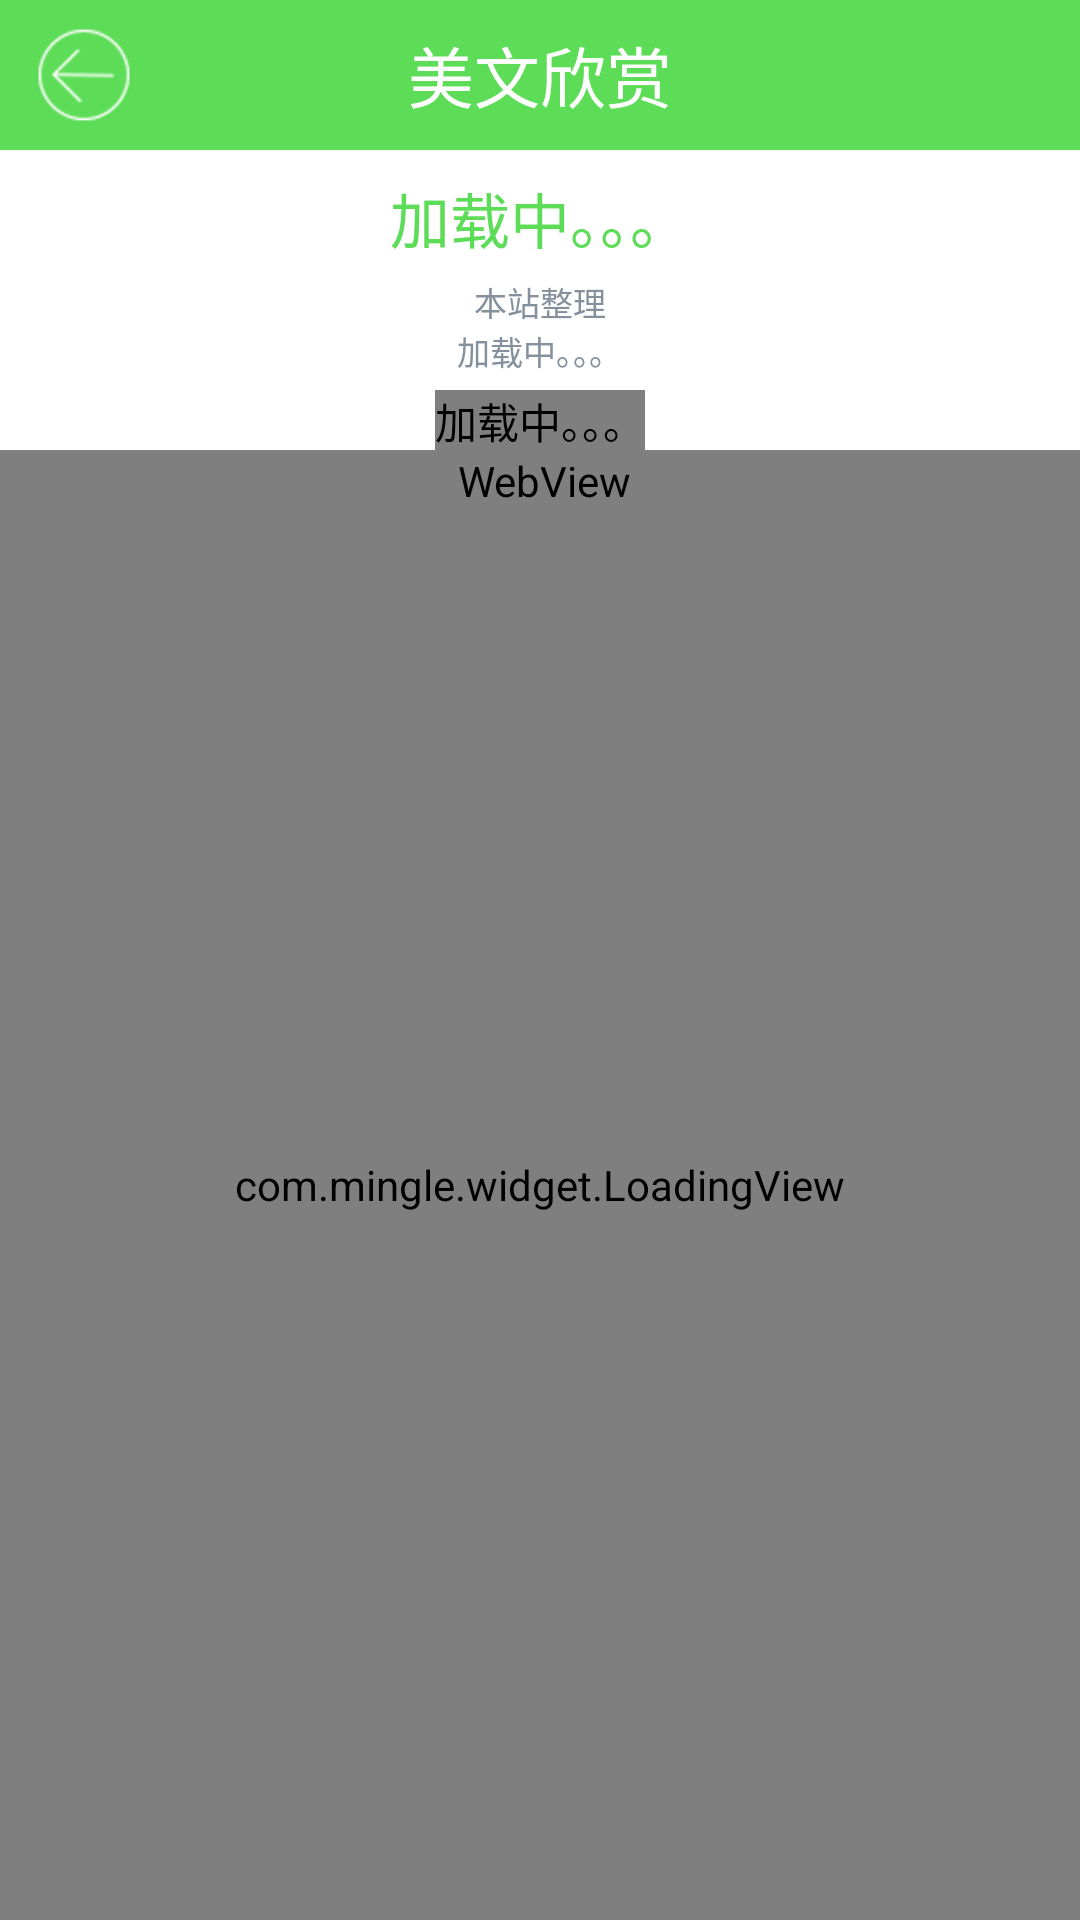

Icon bounding boxes for this 1080px×1920px phone screenshot, format (x1, y1, x2, y2):
left: (38, 29, 130, 121)
